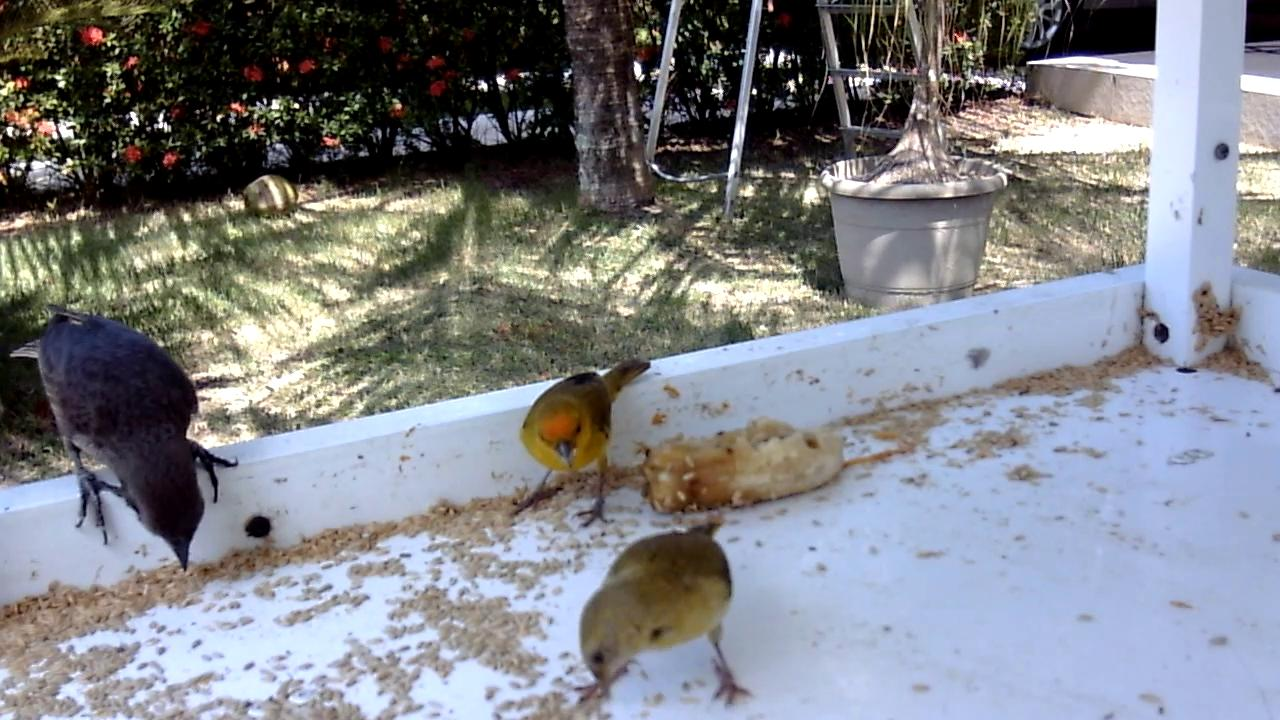canario_do_amazonas: (571, 511, 760, 714), (508, 355, 657, 533)
chupim: (6, 302, 242, 578)
